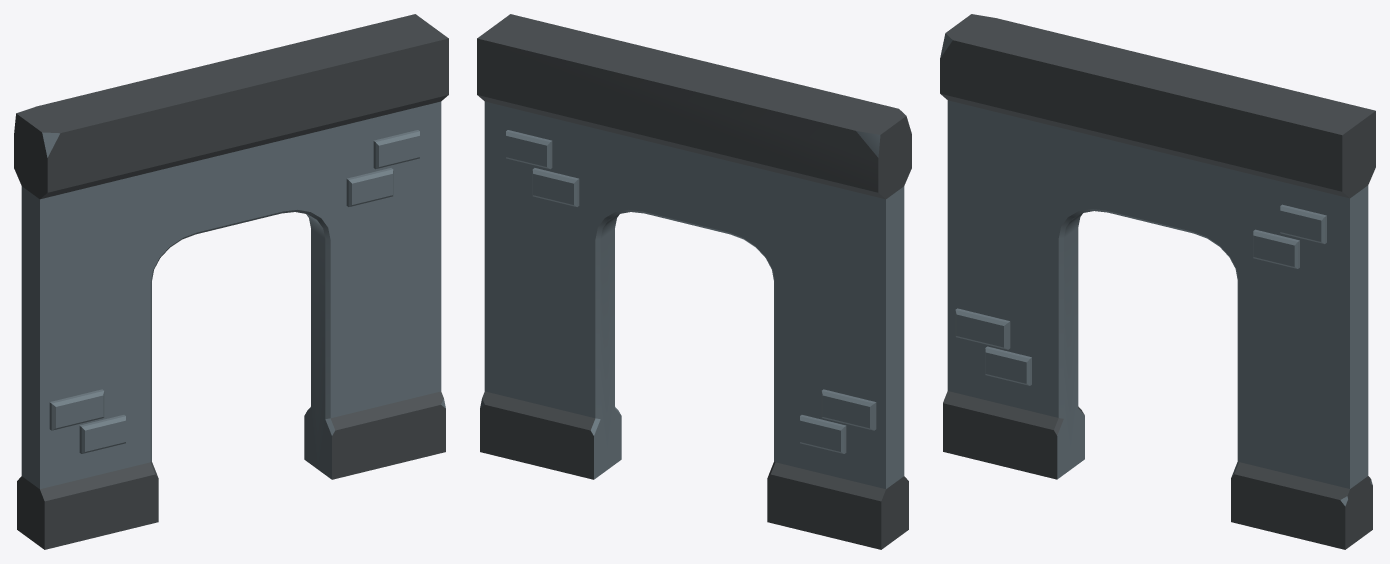
File: wall_1_3.glb
The picture shows the model from 3 angles, left to right: view 1: azimuth 30°, elevation 25°; view 2: azimuth 150°, elevation 25°; view 3: azimuth 330°, elevation 25°; orthographic projection.
Parts seen in each view (by area): view 1: wall_1_3; view 2: wall_1_3; view 3: wall_1_3.
Boxes of the visible parts, left/top/right/bottom form: wall_1_3: left=14, top=14, right=448, bottom=549; wall_1_3: left=477, top=14, right=911, bottom=549; wall_1_3: left=940, top=14, right=1375, bottom=549.
Bounding box in the file's own units: 1.54 × 1.52 × 0.2216.
1 material, 1 textured.
